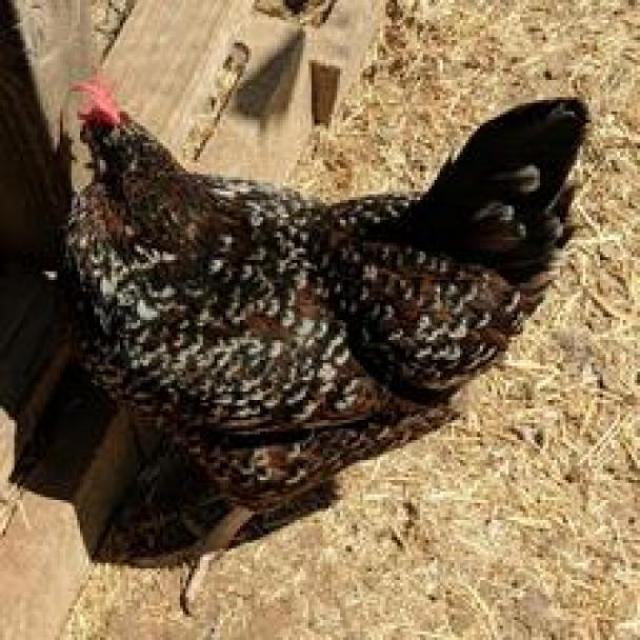Chicken: (56, 42, 620, 636), (56, 42, 585, 629)
